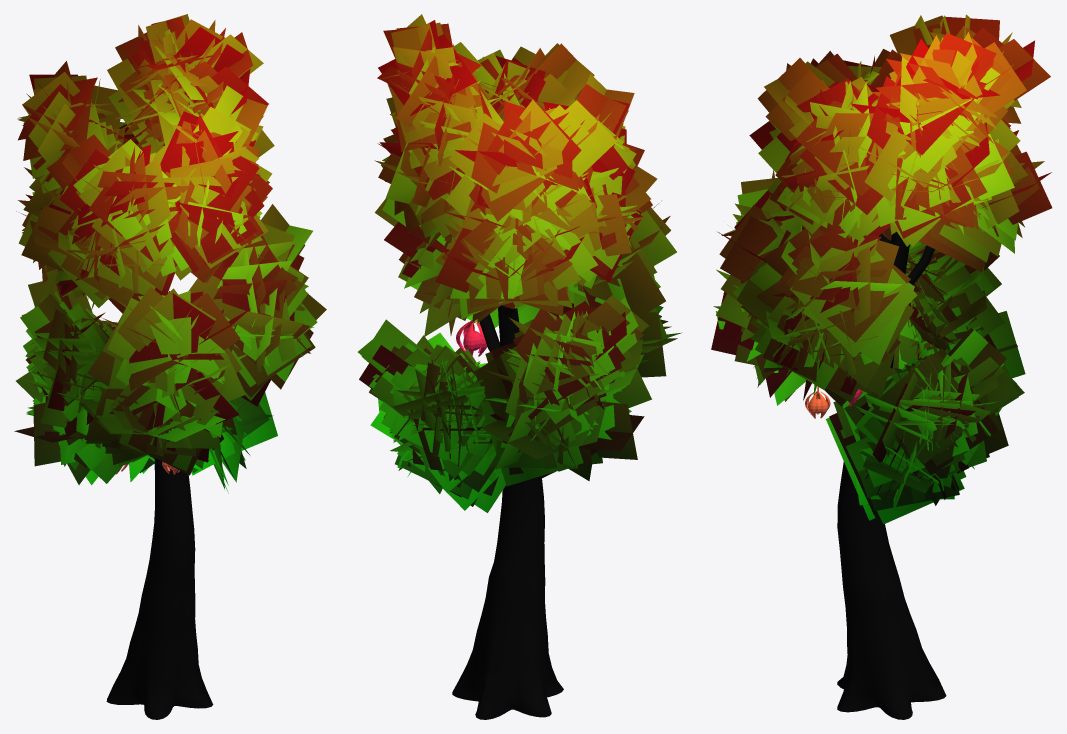
Rendered from env_tree_bg_qt_common_3.fbx.
The picture shows the model from 3 angles, left to right: view 1: azimuth 30°, elevation 25°; view 2: azimuth 150°, elevation 25°; view 3: azimuth 270°, elevation 25°; orthographic projection. The views are drawn at different scales.
Visible parts, largest first — view 1: env_tree_bg_qt_common_3; view 2: env_tree_bg_qt_common_3; view 3: env_tree_bg_qt_common_3.
Boxes of the visible parts, x1,y1,x2,y2 form: env_tree_bg_qt_common_3: (14, 14, 326, 719); env_tree_bg_qt_common_3: (358, 14, 681, 719); env_tree_bg_qt_common_3: (711, 14, 1052, 719).
Size of the model in its own units: 4.06 by 9.43 by 4.24.
